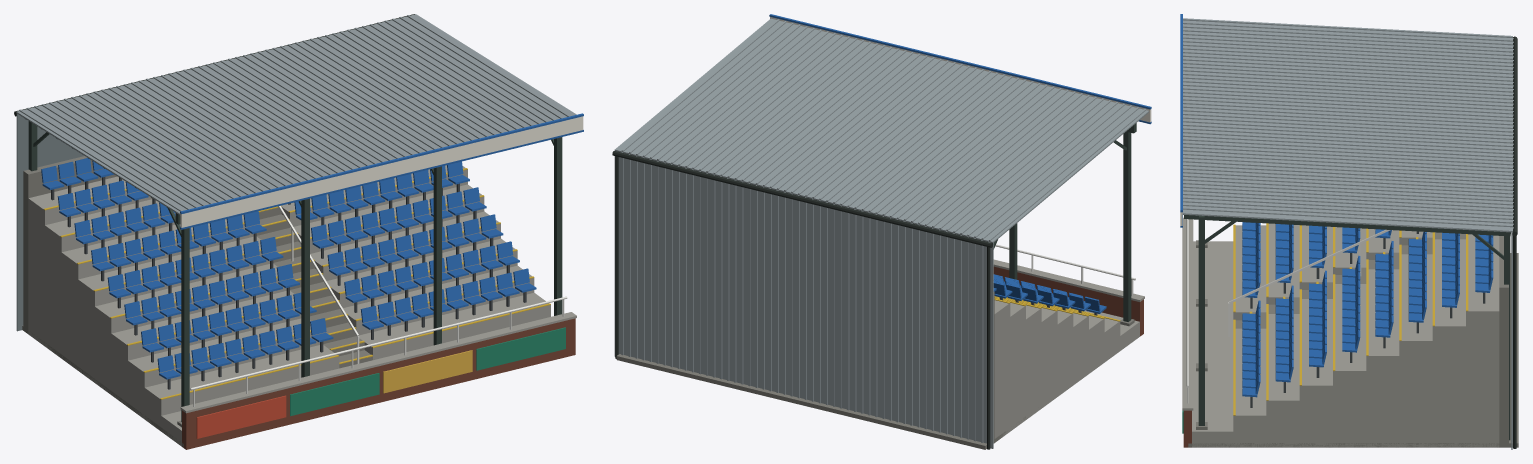
File: the_shed_8.glb
The picture shows the model from 3 angles, left to right: view 1: azimuth 30°, elevation 25°; view 2: azimuth 150°, elevation 25°; view 3: azimuth 270°, elevation 25°; orthographic projection. The views are drawn at different scales.
Visible parts, largest first — view 1: Shed_Corrugated_Sheet, Shed_Concrete, Shed_Club_Primary_Seats, Shed_Front_Wall, Shed_Steel_Frame, Shed_Concrete_Dark, Shed_Club_Secondary_Fascia, Shed_Advert_2, Shed_Seat_Bracket, Shed_Corrugated_Underside, Shed_Club_Primary_Trim, Shed_Step_Edge_Yellow (+3 smaller); view 2: Shed_Corrugated_Sheet, Shed_Concrete, Shed_Gutter, Shed_Concrete_Dark, Shed_Steel_Frame, Shed_Club_Primary_Seats, Shed_Front_Wall, Shed_Club_Primary_Trim, Shed_Club_Secondary_Fascia, Shed_Step_Edge_Yellow; view 3: Shed_Corrugated_Sheet, Shed_Concrete, Shed_Club_Primary_Seats, Shed_Concrete_Dark, Shed_Steel_Frame, Shed_Step_Edge_Yellow, Shed_Gutter, Shed_Railing_White, Shed_Club_Primary_Trim, Shed_Corrugated_Underside, Shed_Seat_Bracket.
Boxes of the visible parts, left/top/right/bottom form: Shed_Corrugated_Sheet: left=16, top=14, right=576, bottom=330; Shed_Concrete: left=28, top=165, right=576, bottom=446; Shed_Club_Primary_Seats: left=41, top=158, right=536, bottom=379; Shed_Front_Wall: left=182, top=318, right=575, bottom=449; Shed_Steel_Frame: left=25, top=119, right=562, bottom=421; Shed_Concrete_Dark: left=22, top=156, right=372, bottom=447; Shed_Club_Secondary_Fascia: left=180, top=116, right=583, bottom=227; Shed_Advert_2: left=290, top=327, right=565, bottom=416; Shed_Seat_Bracket: left=51, top=177, right=526, bottom=389; Shed_Corrugated_Underside: left=17, top=113, right=180, bottom=331; Shed_Club_Primary_Trim: left=180, top=113, right=583, bottom=229; Shed_Step_Edge_Yellow: left=43, top=168, right=550, bottom=399; Shed_Corrugated_Sheet: left=614, top=18, right=1148, bottom=448; Shed_Concrete: left=993, top=259, right=1144, bottom=438; Shed_Gutter: left=612, top=151, right=992, bottom=449; Shed_Concrete_Dark: left=616, top=292, right=1134, bottom=449; Shed_Steel_Frame: left=993, top=123, right=1136, bottom=321; Shed_Club_Primary_Seats: left=993, top=274, right=1106, bottom=313; Shed_Front_Wall: left=993, top=266, right=1143, bottom=336; Shed_Club_Primary_Trim: left=769, top=14, right=1151, bottom=124; Shed_Club_Secondary_Fascia: left=770, top=17, right=1151, bottom=122; Shed_Step_Edge_Yellow: left=994, top=296, right=1120, bottom=321; Shed_Corrugated_Sheet: left=1182, top=18, right=1513, bottom=449; Shed_Concrete: left=1182, top=217, right=1499, bottom=447; Shed_Club_Primary_Seats: left=1242, top=222, right=1493, bottom=397; Shed_Concrete_Dark: left=1188, top=232, right=1518, bottom=447; Shed_Steel_Frame: left=1184, top=215, right=1510, bottom=440; Shed_Step_Edge_Yellow: left=1233, top=223, right=1468, bottom=415; Shed_Gutter: left=1512, top=36, right=1517, bottom=448; Shed_Railing_White: left=1186, top=219, right=1390, bottom=403; Shed_Club_Primary_Trim: left=1180, top=14, right=1182, bottom=227; Shed_Corrugated_Underside: left=1183, top=214, right=1512, bottom=449; Shed_Seat_Bracket: left=1250, top=231, right=1485, bottom=407.
Size of the model in its own units: 11.88 by 6.78 by 8.65.
